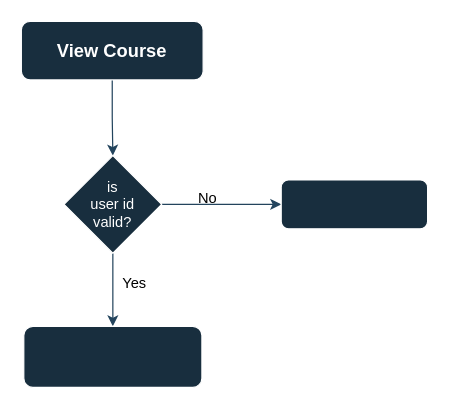
This 449x409 diagram has some shape labels left out. The shapes that lost their labels are listed below. From the top down, each one's centre as x and y in pixels, then its label:
At (x=354, y=204): "Invalid user".
At (x=112, y=356): "Send Course Data and Reviews".
